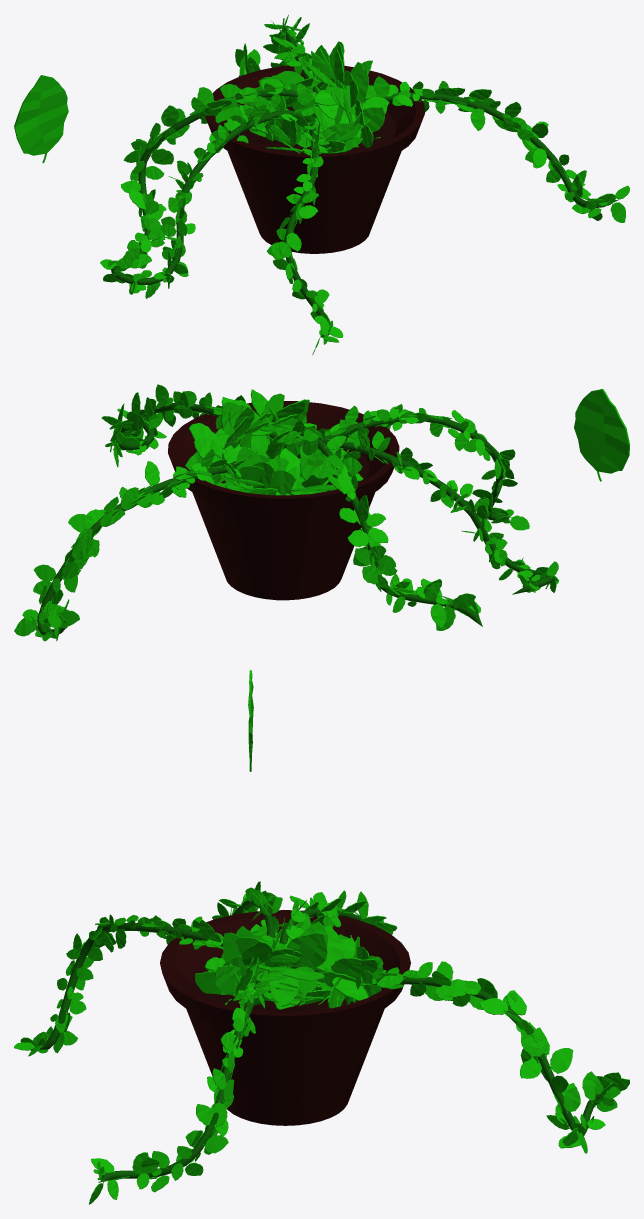
Rendered from smallpot.fbx.
3 views of the same model, one above another, from view 1: azimuth 30°, elevation 25°; view 2: azimuth 150°, elevation 25°; view 3: azimuth 270°, elevation 25° (orthographic). The views are drawn at different scales.
Visible parts, largest first — view 1: Cylinder, Cube, BézierCurve, BézierCurve.005, Cylinder.001, BézierCurve.002, BézierCurve.001; view 2: Cylinder, Cube, BézierCurve, BézierCurve.002, BézierCurve.006, BézierCurve.001, BézierCurve.005, BézierCurve.003|Cube|Dupli|45, BézierCurve.004|Cube|Dupli|, BézierCurve.004|Cube|Dupli|96, BézierCurve.003|Cube|Dupli|53; view 3: Cylinder, BézierCurve.002, BézierCurve.006, BézierCurve.005, Cylinder.001, BézierCurve.004|Cube|Dupli|87.
Part boxes in pixels (x1,y1,x2,y2): Cylinder: (205, 65, 424, 253); Cube: (14, 75, 68, 163); BézierCurve: (111, 110, 315, 284); BézierCurve.005: (344, 92, 618, 207); Cylinder.001: (236, 107, 396, 153); BézierCurve.002: (284, 123, 329, 337); BézierCurve.001: (138, 89, 298, 253); Cylinder: (168, 401, 399, 600); Cube: (574, 389, 629, 481); BézierCurve: (296, 439, 553, 594); BézierCurve.002: (323, 414, 509, 520); BézierCurve.006: (37, 464, 234, 635); BézierCurve.001: (284, 430, 482, 626); BézierCurve.005: (113, 403, 277, 450); BézierCurve.003|Cube|Dupli|45: (267, 470, 296, 495); BézierCurve.004|Cube|Dupli|: (194, 437, 222, 462); BézierCurve.004|Cube|Dupli|96: (188, 423, 222, 448); BézierCurve.003|Cube|Dupli|53: (236, 446, 262, 474); Cylinder: (160, 910, 410, 1125); BézierCurve.002: (37, 923, 223, 1049); BézierCurve.006: (263, 976, 605, 1135); BézierCurve.005: (101, 971, 263, 1180); Cylinder.001: (192, 954, 358, 1012); BézierCurve.004|Cube|Dupli|87: (298, 932, 327, 968).
Size of the model in its own units: 627 by 270 by 534.
